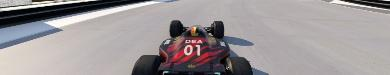Car: (130, 19, 253, 74)
curve: (0, 0, 389, 74)
obstacles-Borders: (0, 0, 33, 8)
